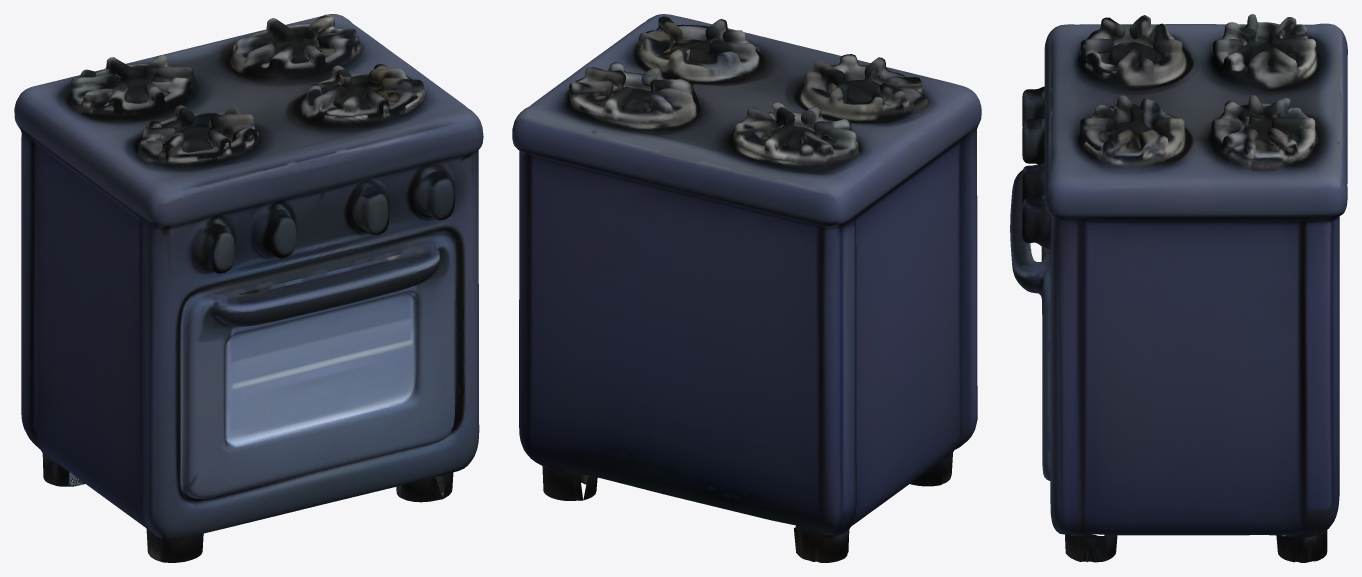
The model's file is stove.glb.
3 renders of one model, left to right at view 1: azimuth 30°, elevation 25°; view 2: azimuth 150°, elevation 25°; view 3: azimuth 270°, elevation 25°, orthographic.
Parts seen in each view (by area): view 1: patrick-reference-stove; view 2: patrick-reference-stove; view 3: patrick-reference-stove.
Boxes of the visible parts, <box> form: patrick-reference-stove: <box>14,14,483,562</box>; patrick-reference-stove: <box>512,14,981,562</box>; patrick-reference-stove: <box>1010,14,1347,562</box>.
Bounding box in the file's own units: 0.81 × 0.94 × 0.7.
1 material, 1 textured.
